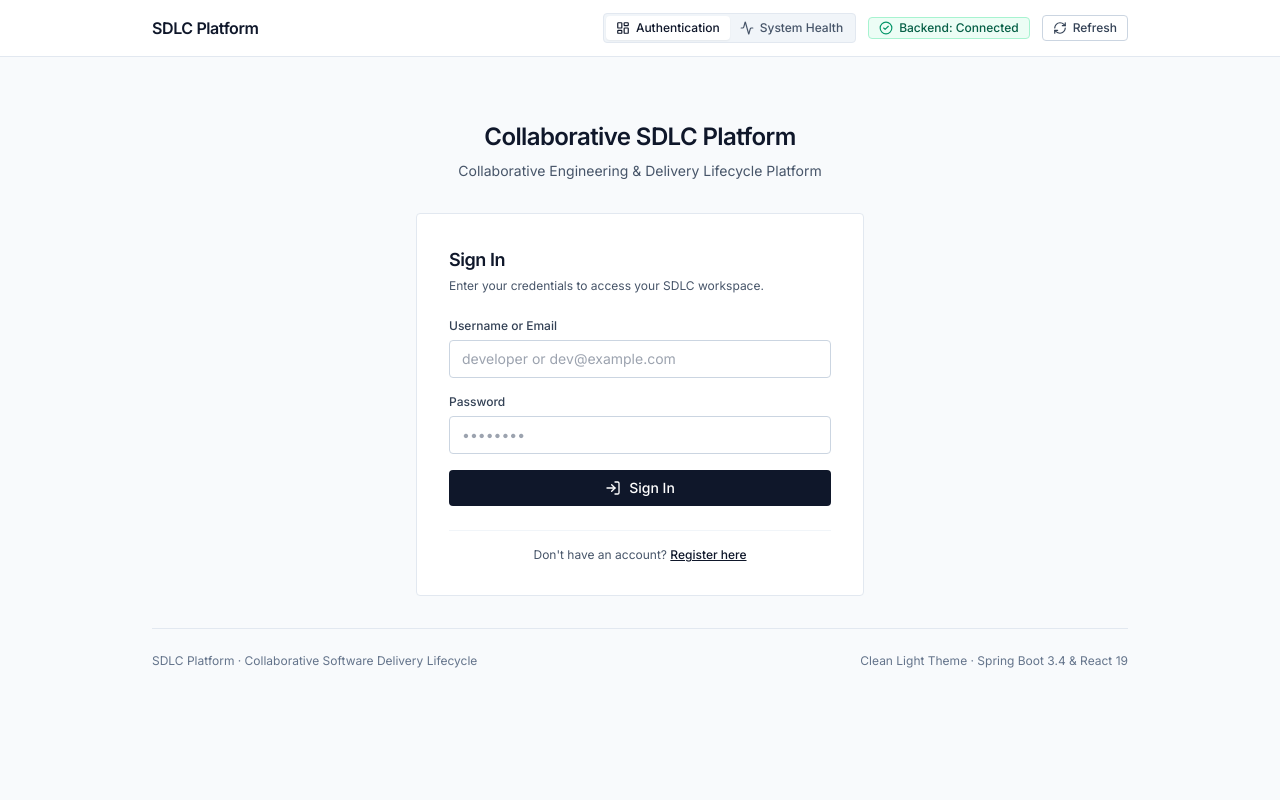
App & Authentication Flow › allows toggling between Login and Register forms
Expected: the text "Backend: Connected" is shown, [899,20,1019,36]
// Click link to switch to Register
Click the button "Register here".
click(708, 555)  # box [670,547,746,563]
(page scrolled)
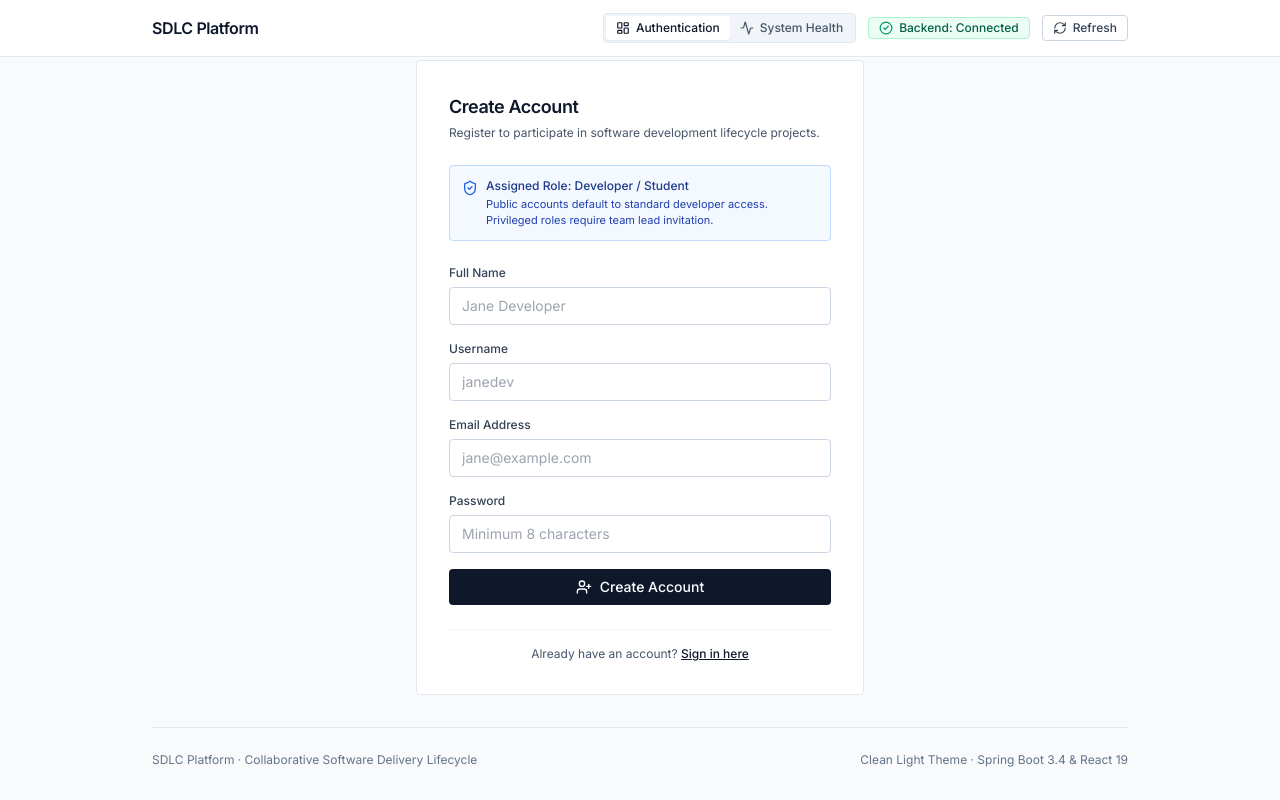
Now the heading "Create Account" is shown, box [449,96,578,117]
Now the field labelled "Full Name" is shown, box [449,287,831,325]
Now the field labelled "Username" is shown, box [449,363,831,401]
// Click link to switch back to Sign In
Click the button "Sign in here".
click(715, 654)  # box [681,646,749,662]
(page scrolled)
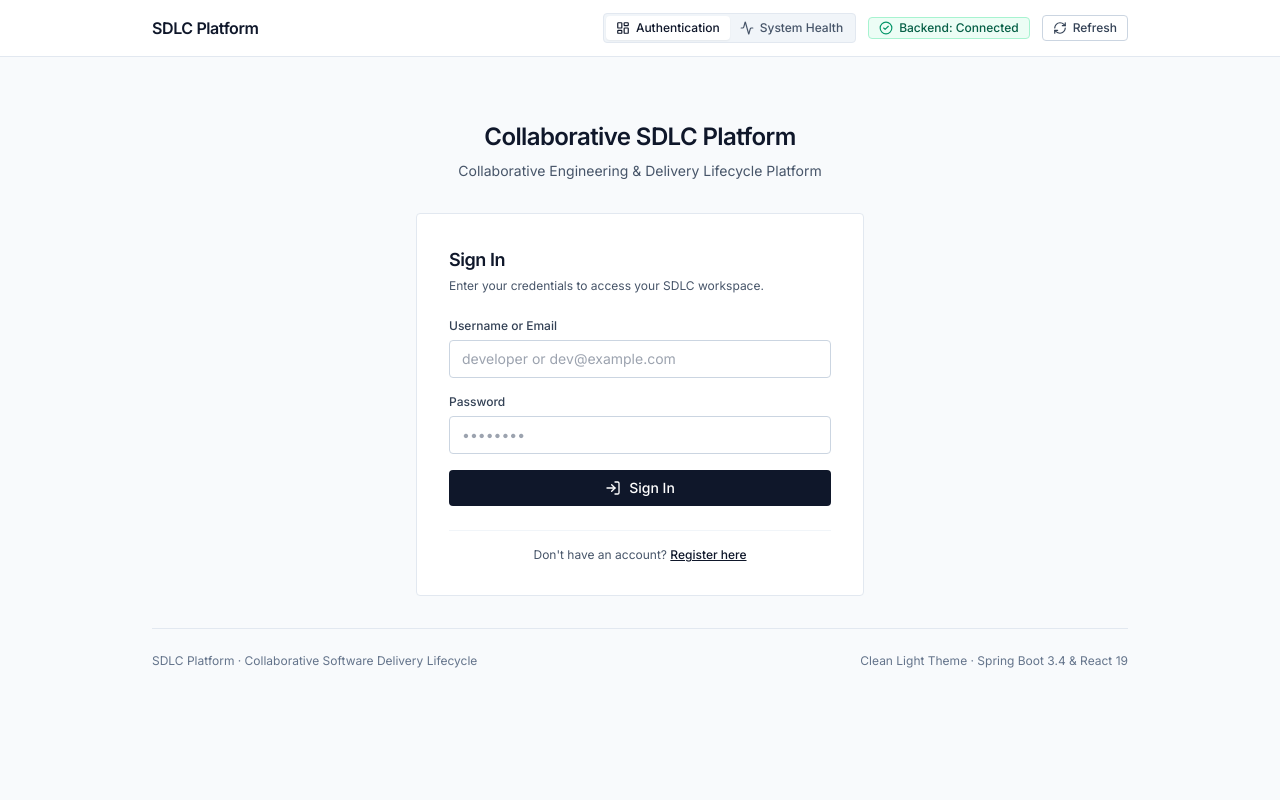
Now the heading "Sign In" is shown, box [449,249,505,270]
